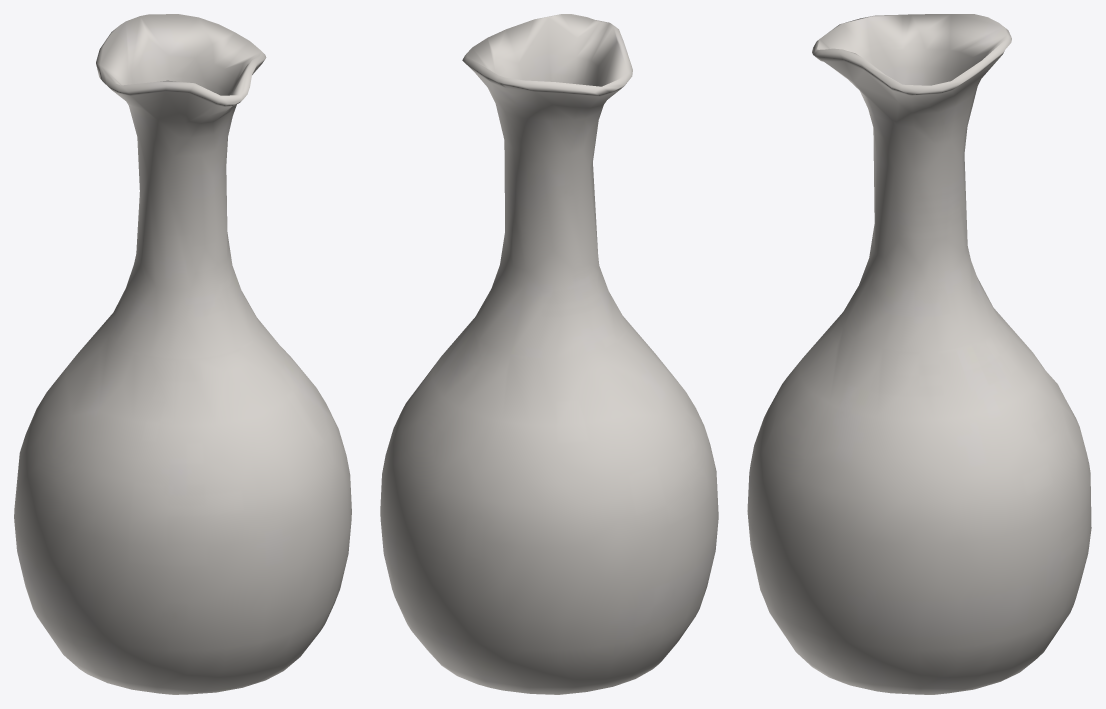
Rendered from ceramic_vase_01.glb.
3 renders of one model, left to right at view 1: azimuth 30°, elevation 25°; view 2: azimuth 150°, elevation 25°; view 3: azimuth 270°, elevation 25°, orthographic.
Parts seen in each view (by area): view 1: ceramic_vase_01; view 2: ceramic_vase_01; view 3: ceramic_vase_01.
Boxes of the visible parts, bbox=[...] form: ceramic_vase_01: bbox=[14, 14, 351, 694]; ceramic_vase_01: bbox=[380, 14, 718, 694]; ceramic_vase_01: bbox=[747, 14, 1091, 694].
Size of the model in its own units: 0.2036 by 0.4003 by 0.2031.
1 material, 1 textured.
